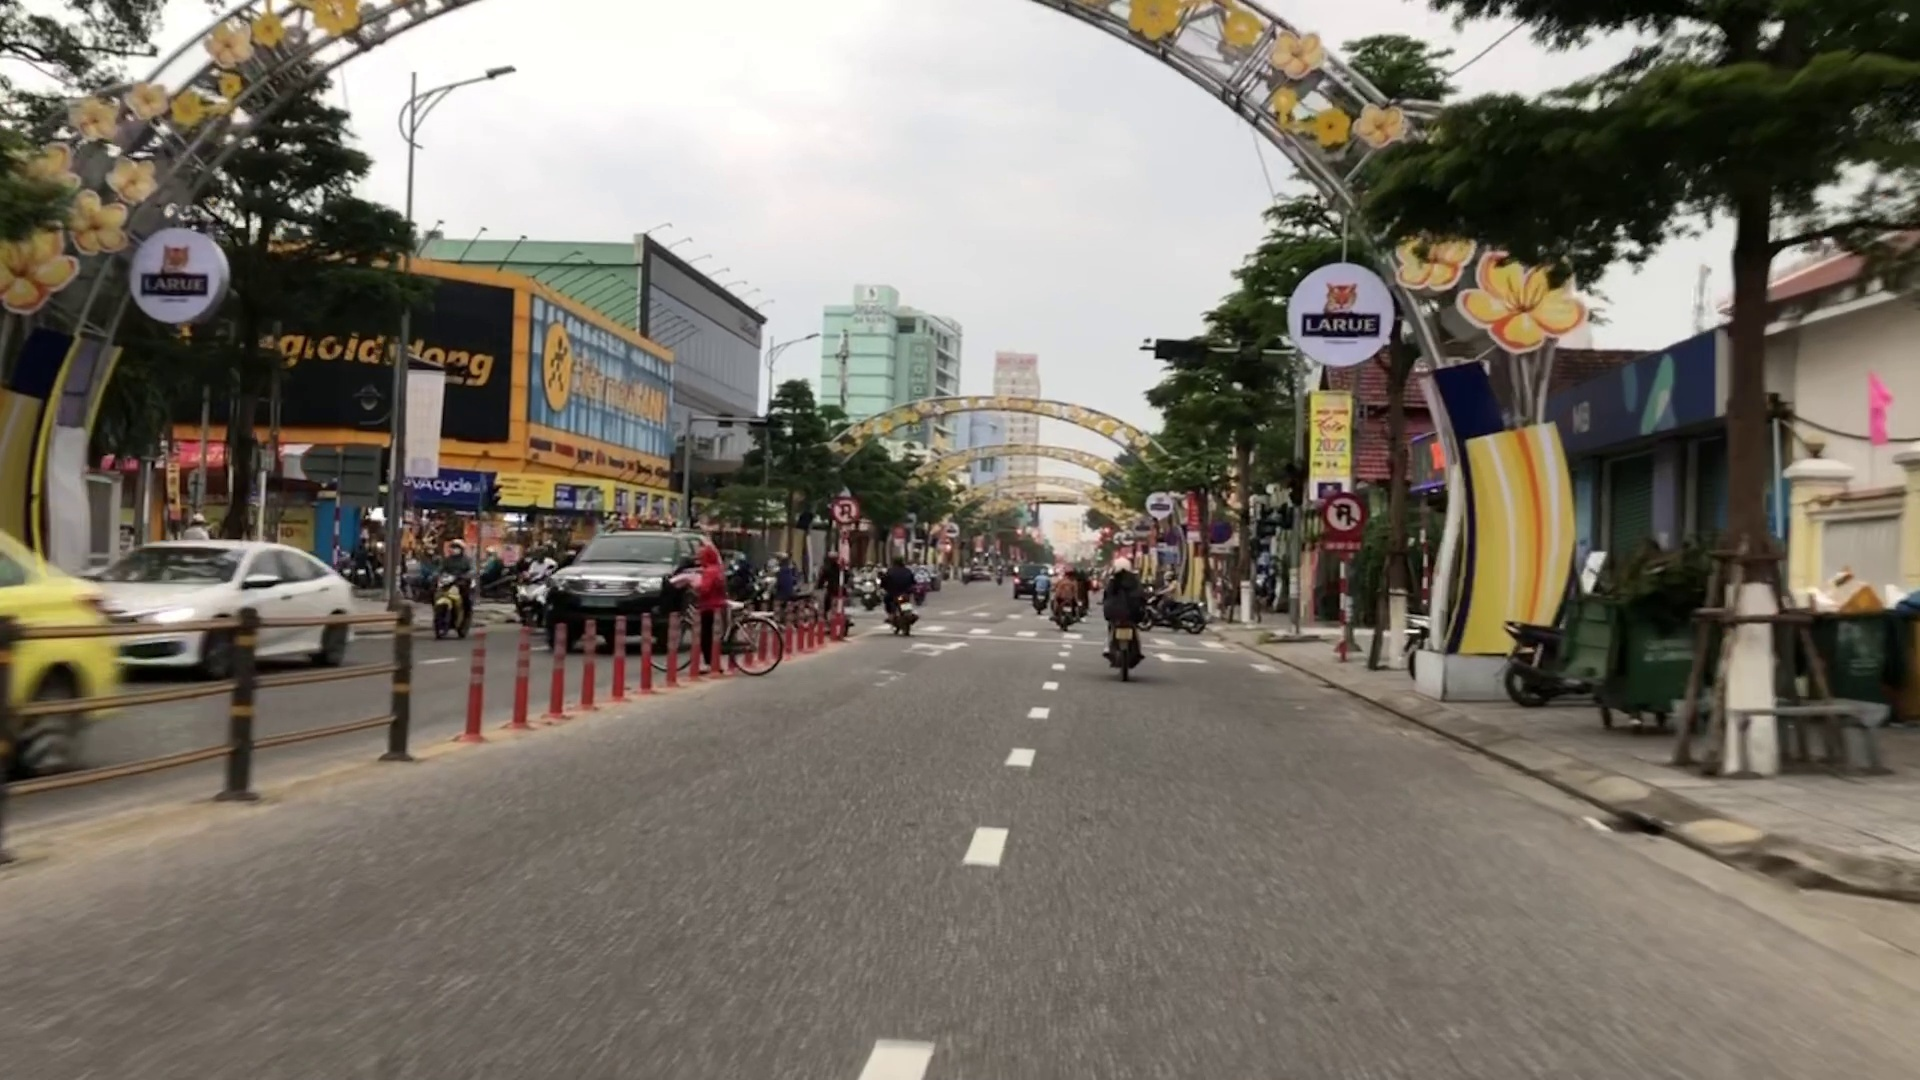Bien khac: (1327, 488, 1360, 535), (832, 495, 857, 524)
